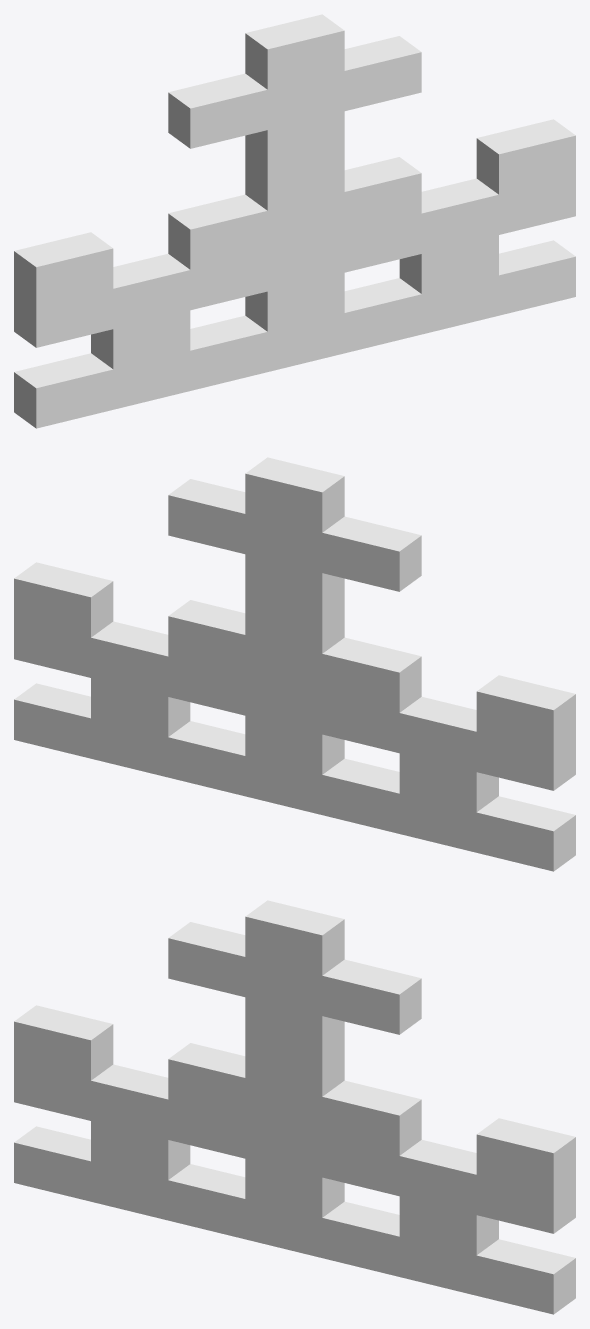
File: Crown-White.vox.obj
3 renders of one model, top to bottom at view 1: azimuth 30°, elevation 25°; view 2: azimuth 150°, elevation 25°; view 3: azimuth 330°, elevation 25°, orthographic.
Size of the model in its own units: 1.4 by 0.8 by 0.1.
1 material, 1 textured.
